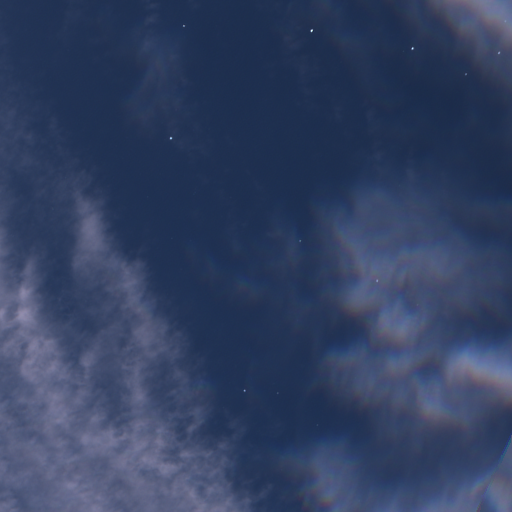Iceberg: (310, 29, 312, 32), (411, 47, 413, 49), (170, 137, 172, 139), (243, 389, 245, 391), (498, 51, 499, 53), (465, 73, 466, 75), (376, 279, 377, 281), (183, 25, 184, 26), (299, 240, 300, 241), (277, 392, 278, 393)
